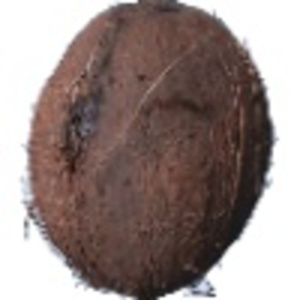coco: (22, 1, 279, 300)
